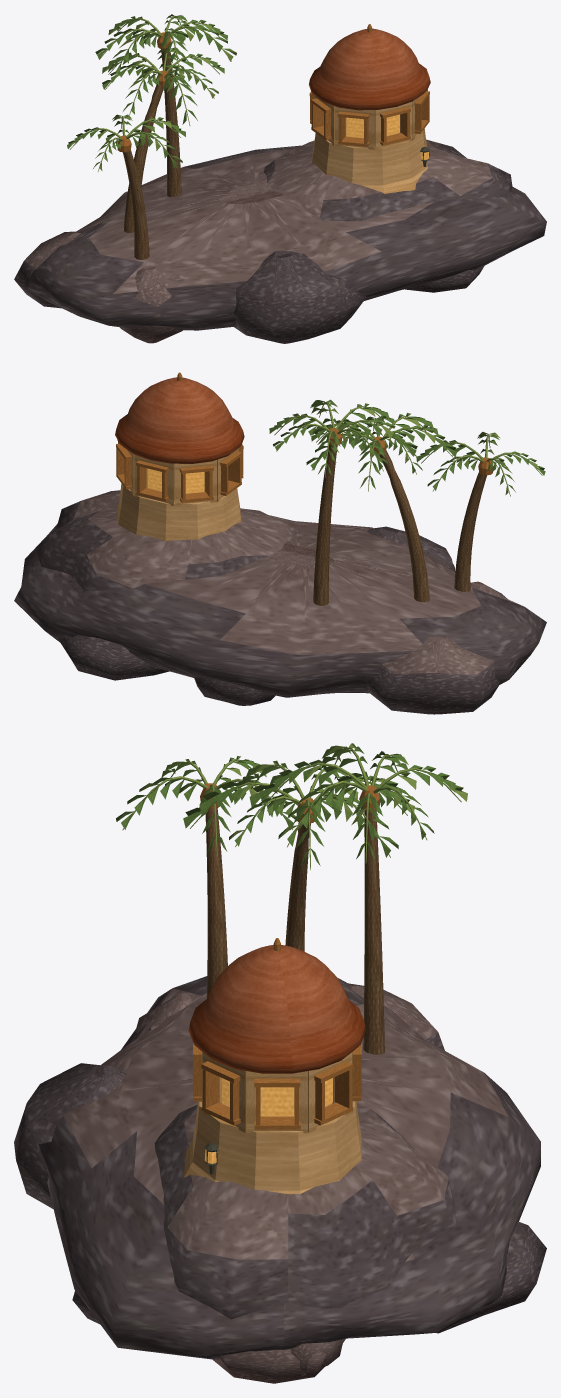
Rendered from nile_granite_oasis_isle_mid.glb.
3 views of the same model, one above another, from view 1: azimuth 30°, elevation 25°; view 2: azimuth 150°, elevation 25°; view 3: azimuth 270°, elevation 25° (orthographic). The views are drawn at different scales.
Parts seen in each view (by area): view 1: nile_granite_oasis_isle_mid; view 2: nile_granite_oasis_isle_mid; view 3: nile_granite_oasis_isle_mid.
Part boxes in pixels (bbox=[...]): nile_granite_oasis_isle_mid: bbox=[14, 14, 546, 343]; nile_granite_oasis_isle_mid: bbox=[14, 372, 546, 714]; nile_granite_oasis_isle_mid: bbox=[14, 743, 546, 1383].
Size of the model in its own units: 22 by 12 by 14.
Materials: 2 (2 with a texture image).
